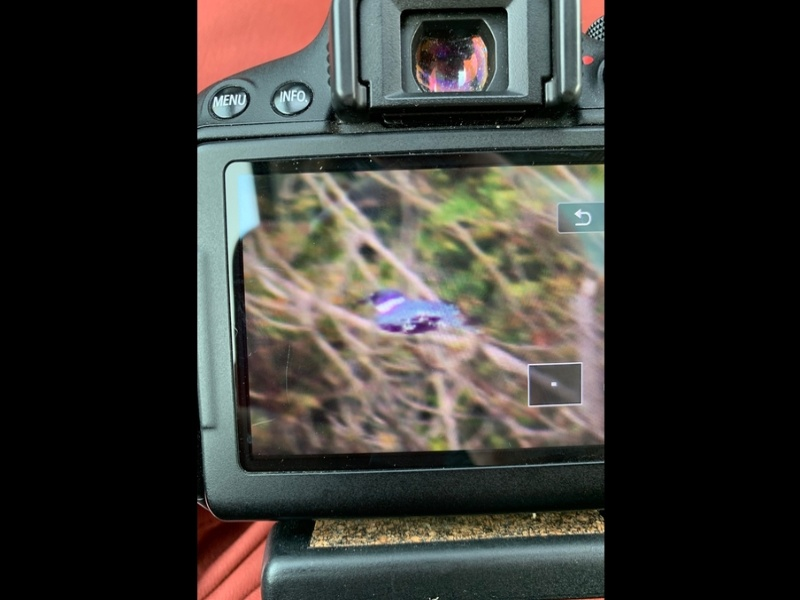kingfisher: (357, 287, 466, 335)
